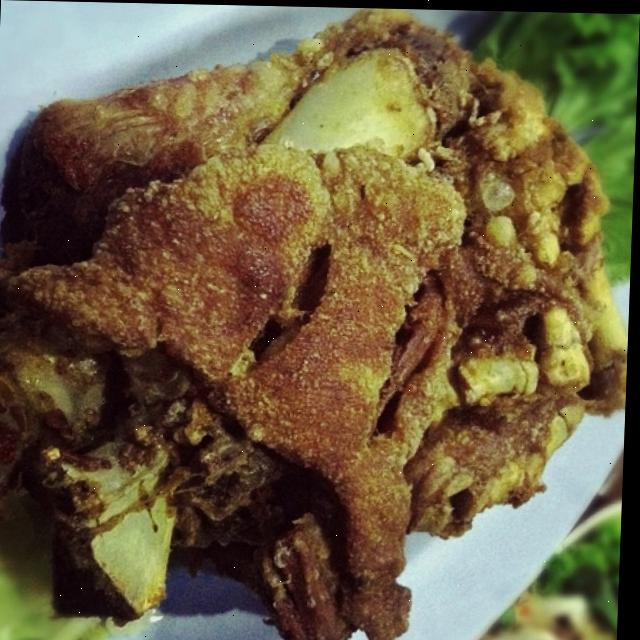猪肉菜式: (0, 6, 620, 625)
